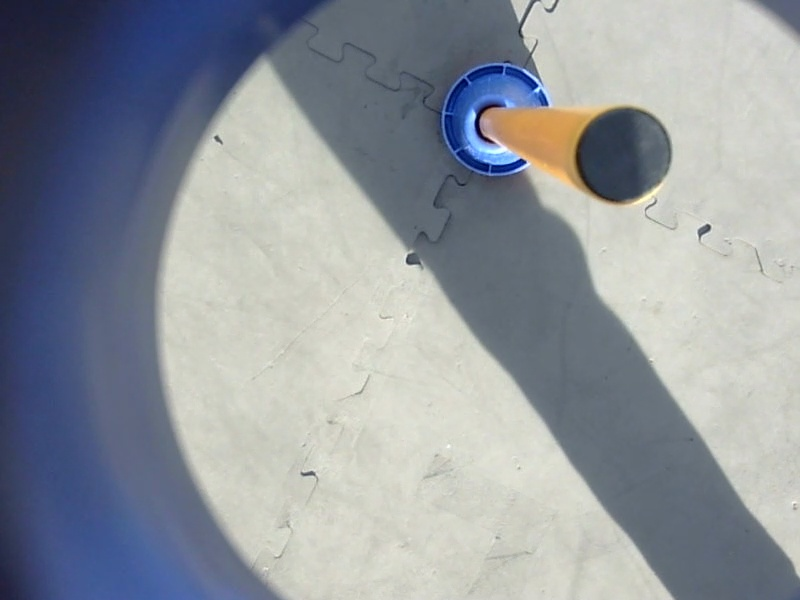tip: (569, 99, 677, 209)
